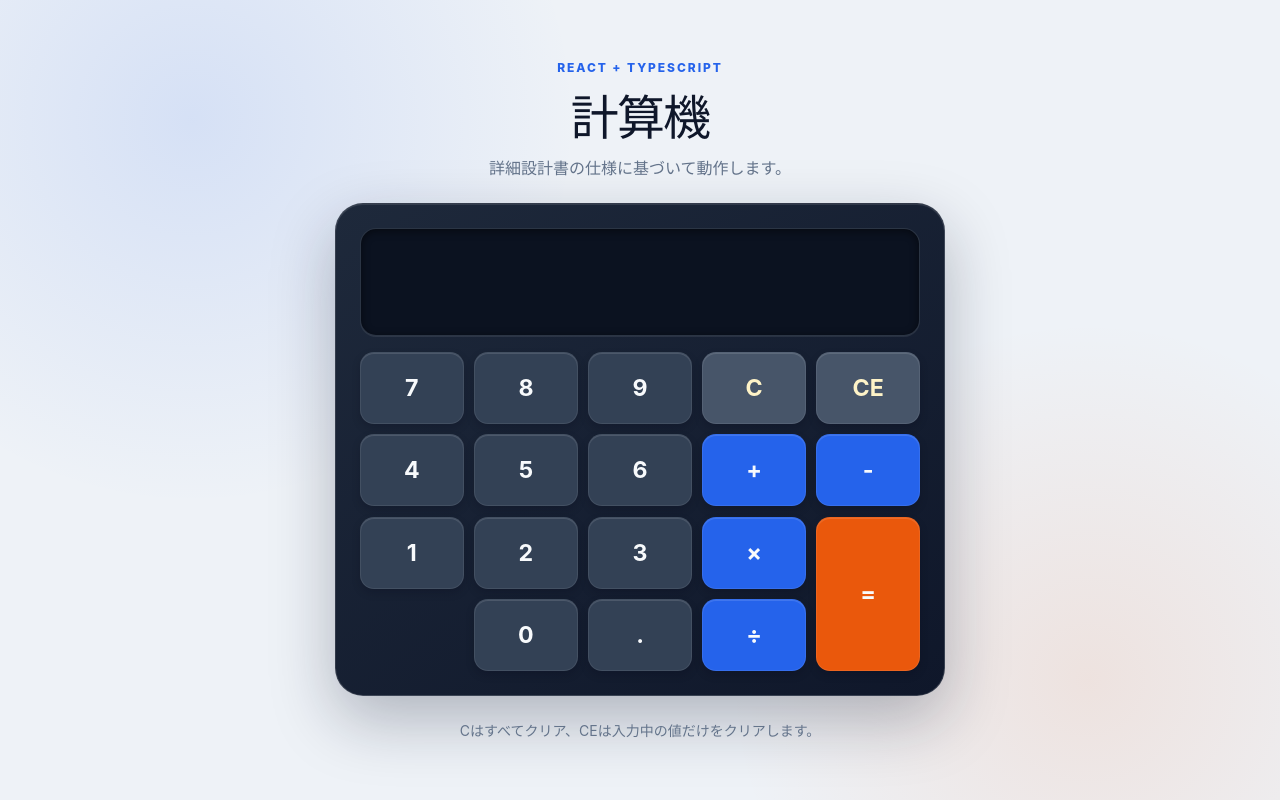
it: calculator application › 連続演算を左から順に計算する
Click the button named "数字2". click: (526, 553)
box: left=474, top=517, right=578, bottom=589
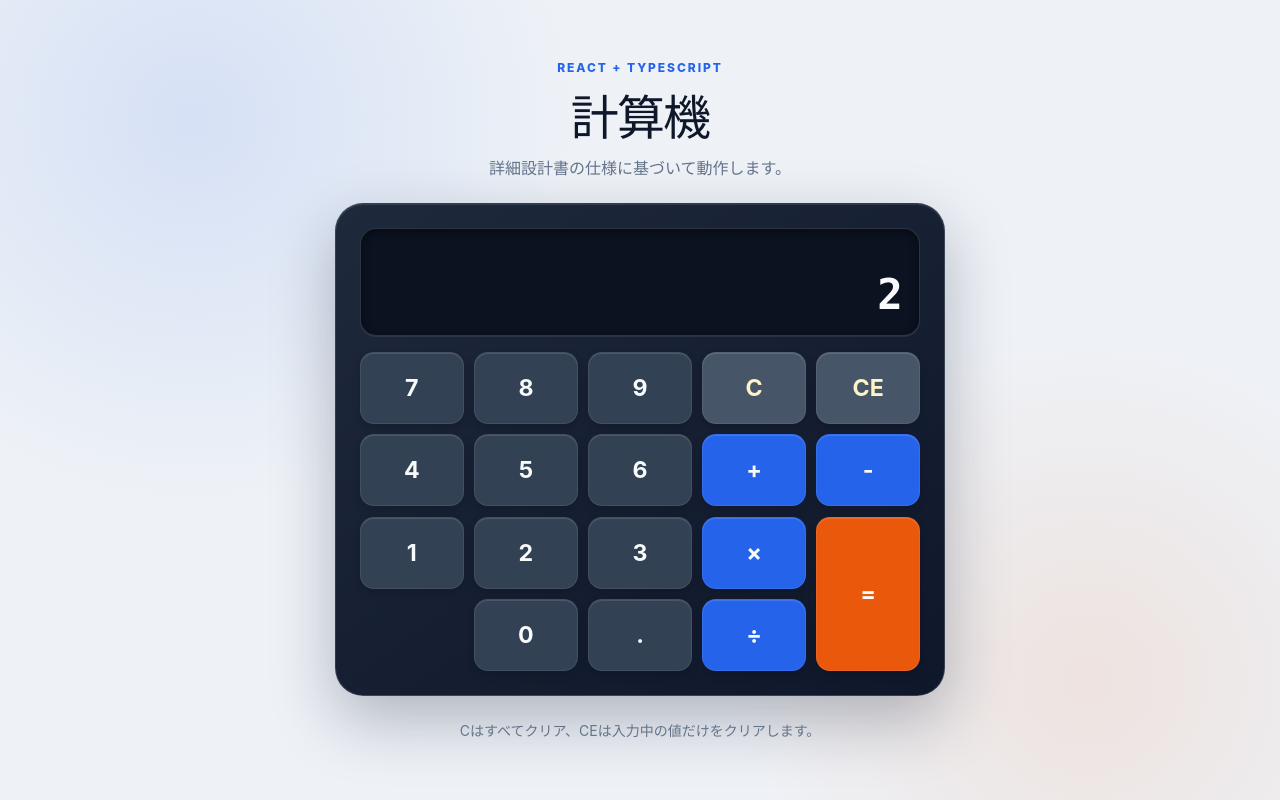
Click the button named "加算". click: (754, 470)
box: left=702, top=434, right=806, bottom=506
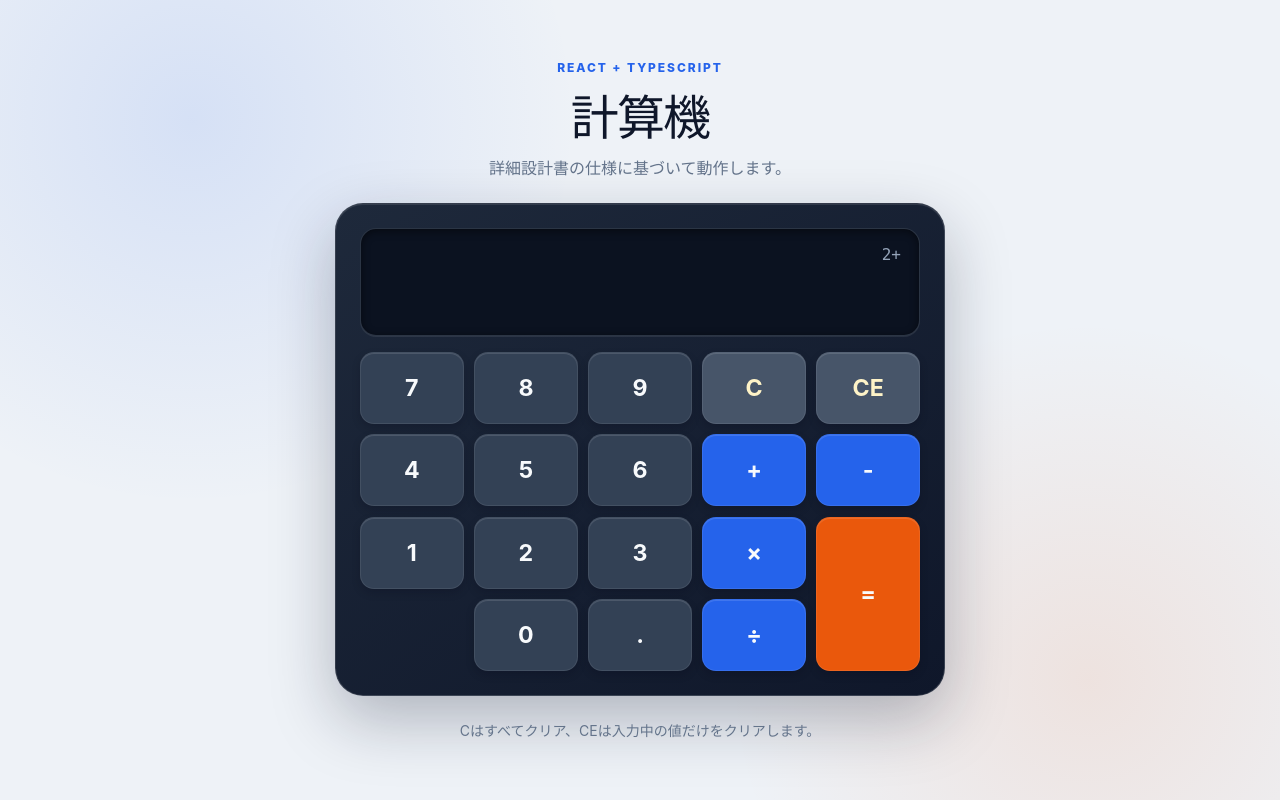
Click the button named "数字3". click: (640, 553)
box: left=588, top=517, right=692, bottom=589
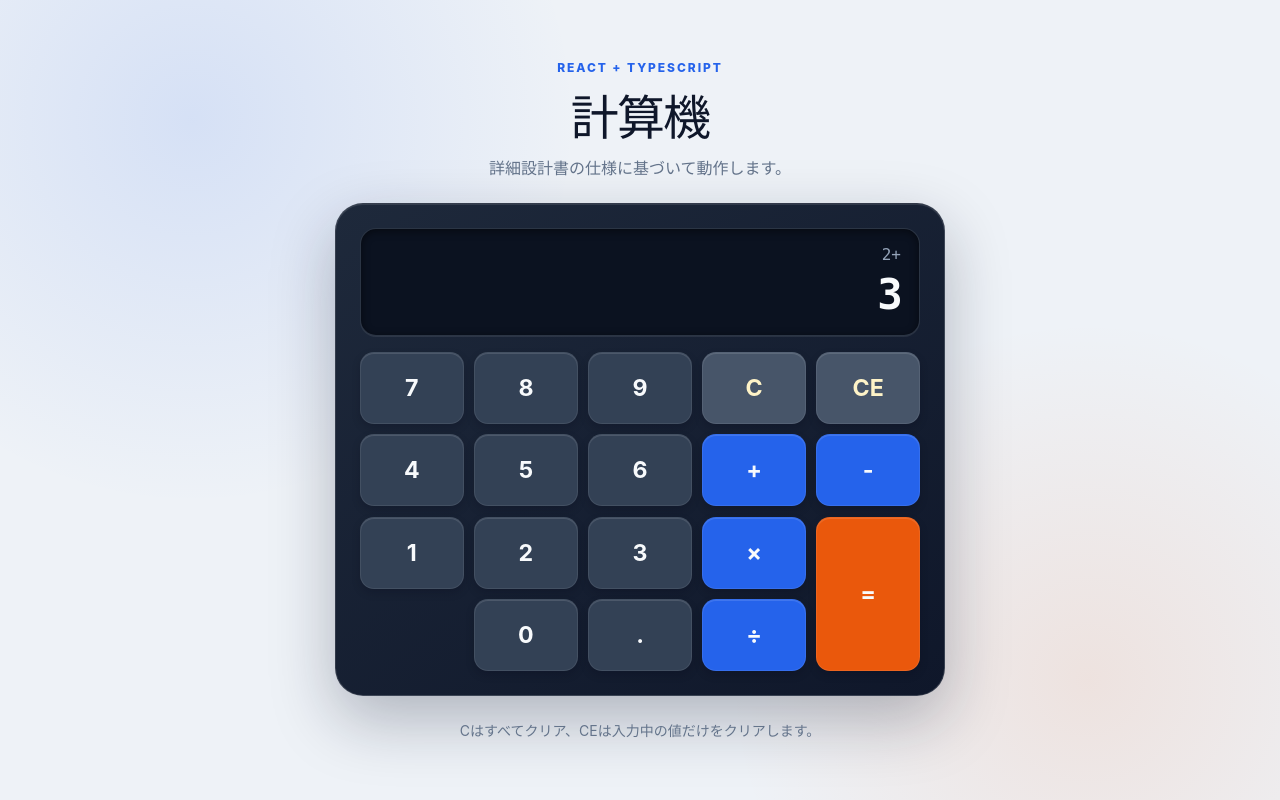
Click the button named "乗算". click: (754, 553)
box: left=702, top=517, right=806, bottom=589
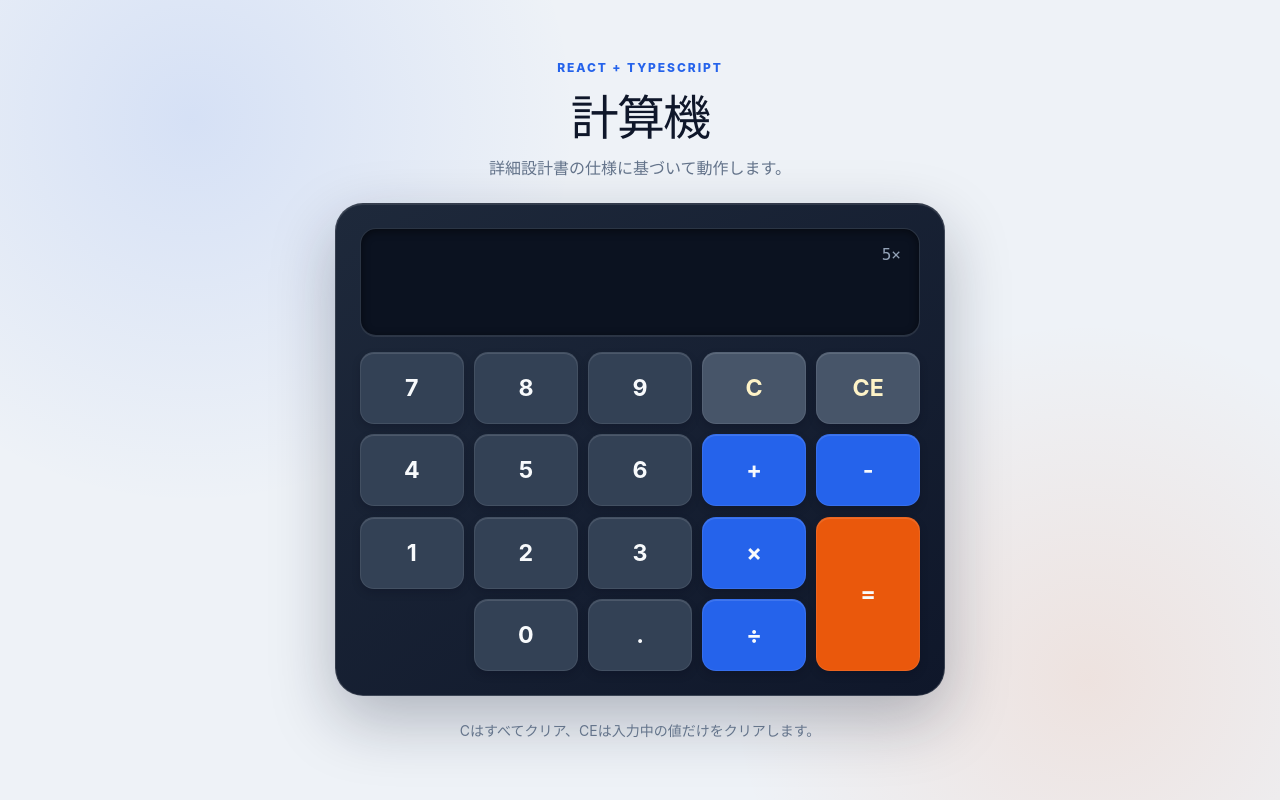
Click the button named "数字4". click: (412, 470)
box: left=360, top=434, right=464, bottom=506
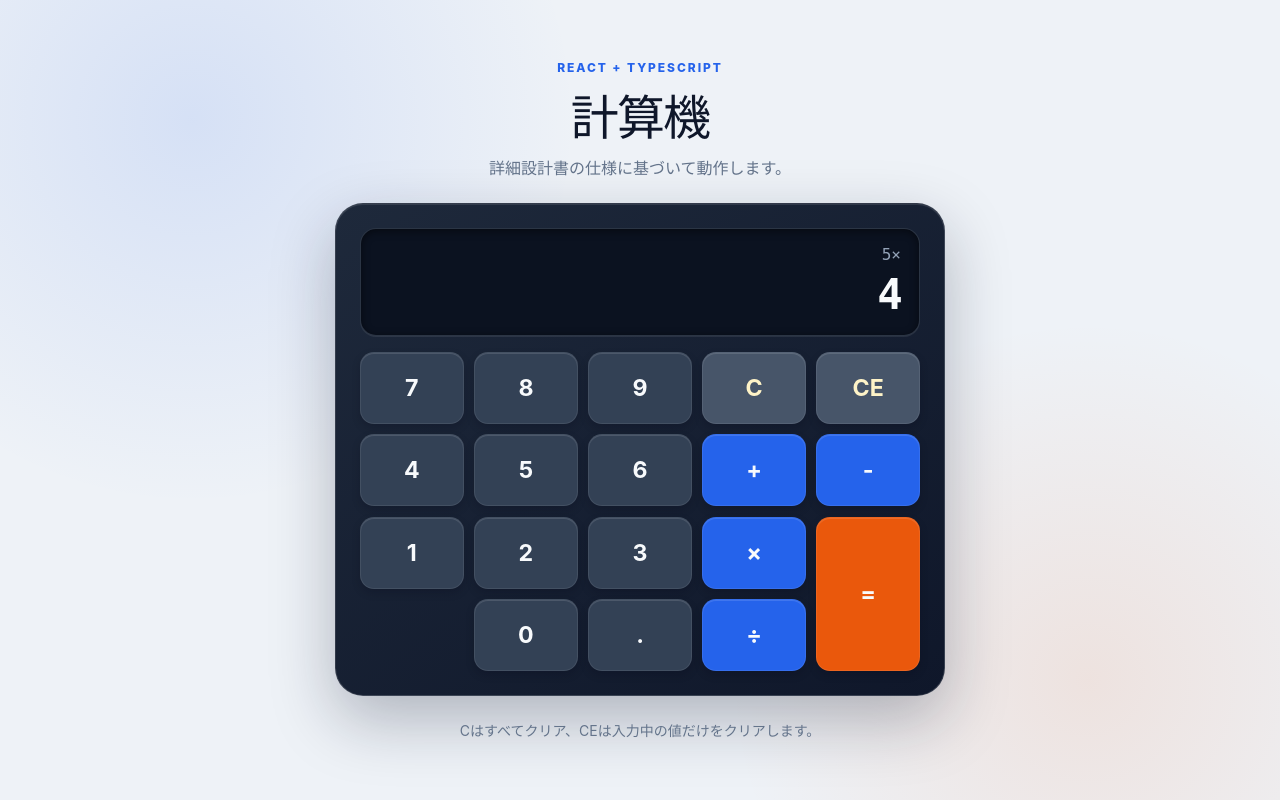
Click the button named "計算". click: (868, 594)
box: left=816, top=517, right=920, bottom=671
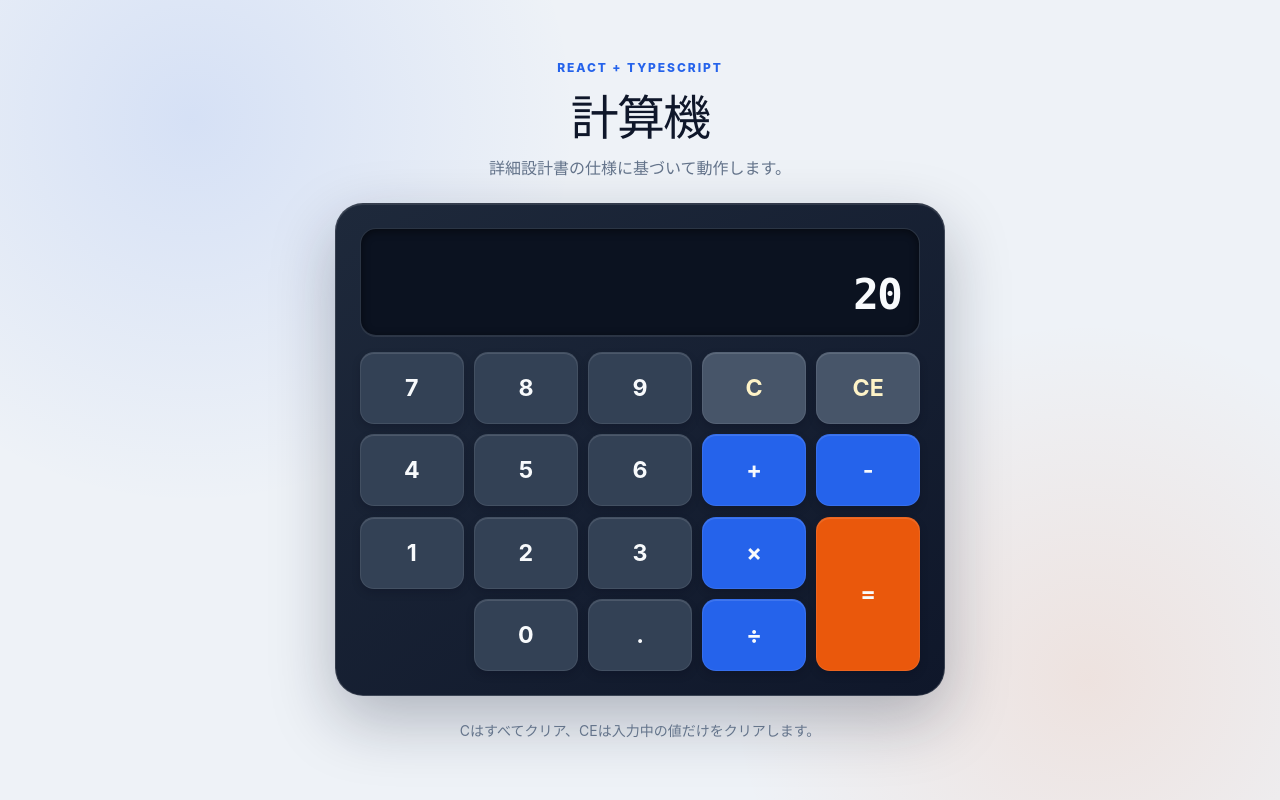
Now the text named "計算2" reads "20", box left=853, top=270, right=901, bottom=319
